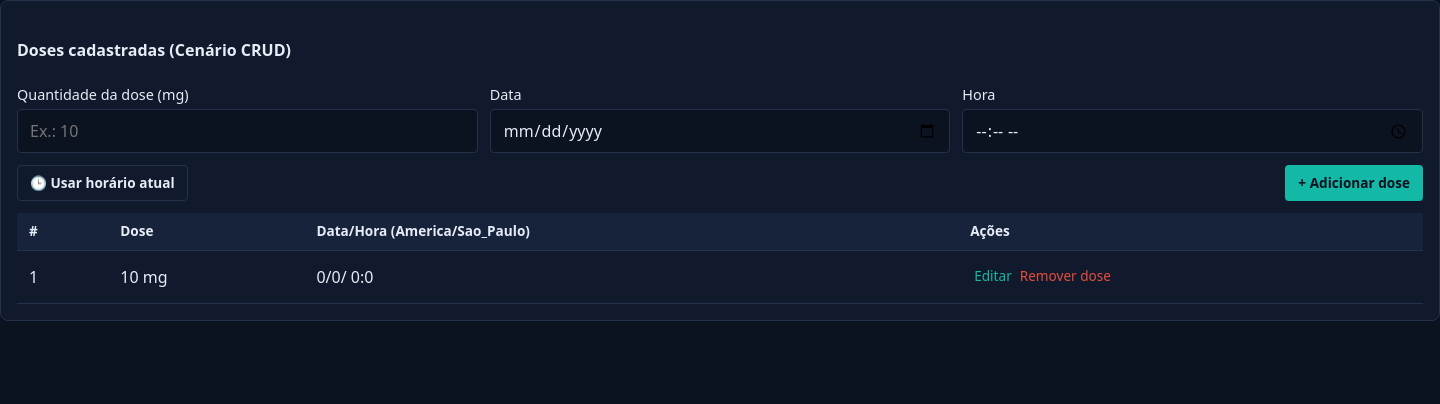
Test: E9.2 Regressions RED Phase › Blocker 3 — CRUD de Doses Transacional › ao falhar a remoção de dose, exibe erro
Clica em Remover dose
Click the button "Remover dose" at {"x": 1065, "y": 276}, box [1016,258,1115,294]
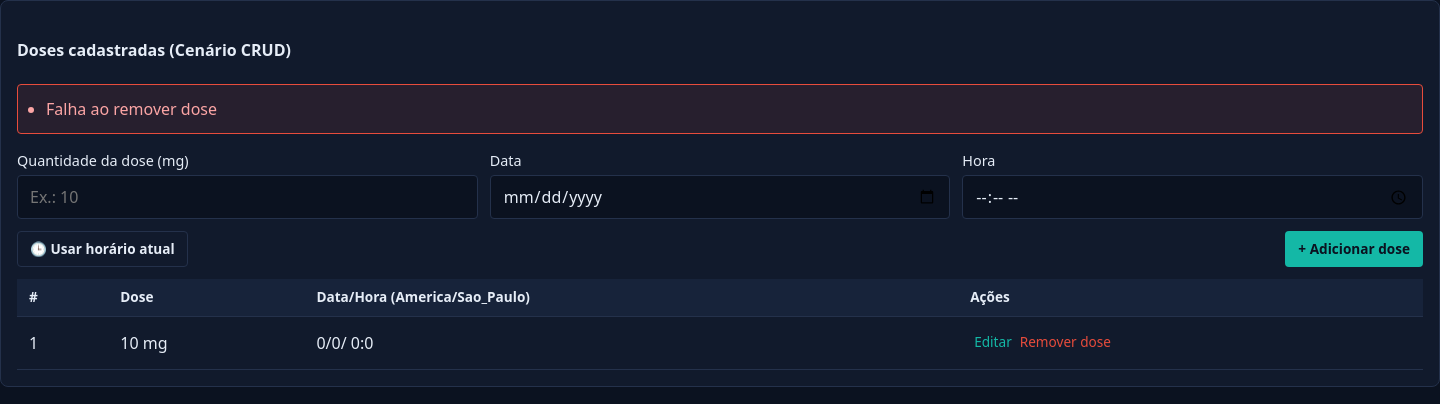
Expected: the text "10 mg" is shown, [108,316,304,369]
Expected: the list item "Falha ao remover dose" is shown, [46,98,217,120]
